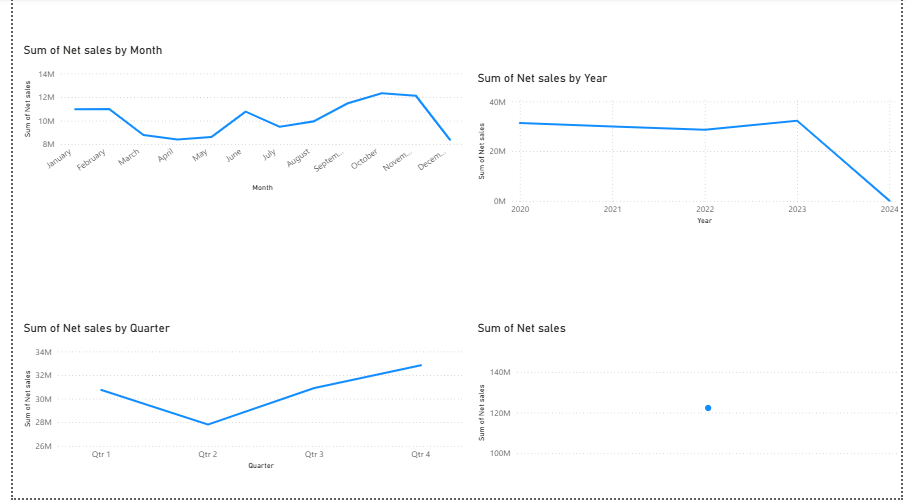

Layout of this report page (visuals, bound fields, positions):
{"tool":"powerbi","page":{"name":"net sales with time","canvas":[1280,720],"ordinal":1},"visuals":[{"type":"lineChart","fields":{"Y":["Sum(fact table.Net sales)"],"Category":["date table 1.Date.Variation.Date Hierarchy.Year","date table 1.Date.Variation.Date Hierarchy.Quarter","date table 1.Date.Variation.Date Hierarchy.Month"]},"box":[10.1,64.8,643.7,218.9],"z":0},{"type":"lineChart","fields":{"Y":["Sum(fact table.Net sales)"],"Category":["date table 1.Date.Variation.Date Hierarchy.Year","date table 1.Date.Variation.Date Hierarchy.Quarter"]},"box":[10.1,465.1,643.7,218.9],"z":1000},{"type":"lineChart","fields":{"Y":["Sum(fact table.Net sales)"],"Category":["date table 1.Date.Variation.Date Hierarchy.Year"]},"box":[663.8,105.1,616.3,226.1],"z":2000},{"type":"lineChart","fields":{"Y":["Sum(fact table.Net sales)"]},"box":[663.8,465.1,616.3,226.1],"z":3000}]}

Visuals, with their boxes in screenshot pixels (x1, y1, x2, y2), scaled from the page's 1280x720 canvas onto the 906x500 screenshot:
lineChart - Sum(fact table.Net sales) x date table 1.Date.Variation.Date Hierarchy.Year: 7/45/463/197
lineChart - Sum(fact table.Net sales) x date table 1.Date.Variation.Date Hierarchy.Year: 7/323/463/475
lineChart - Sum(fact table.Net sales) x date table 1.Date.Variation.Date Hierarchy.Year: 470/73/905/230
lineChart - Sum(fact table.Net sales): 470/323/905/480
